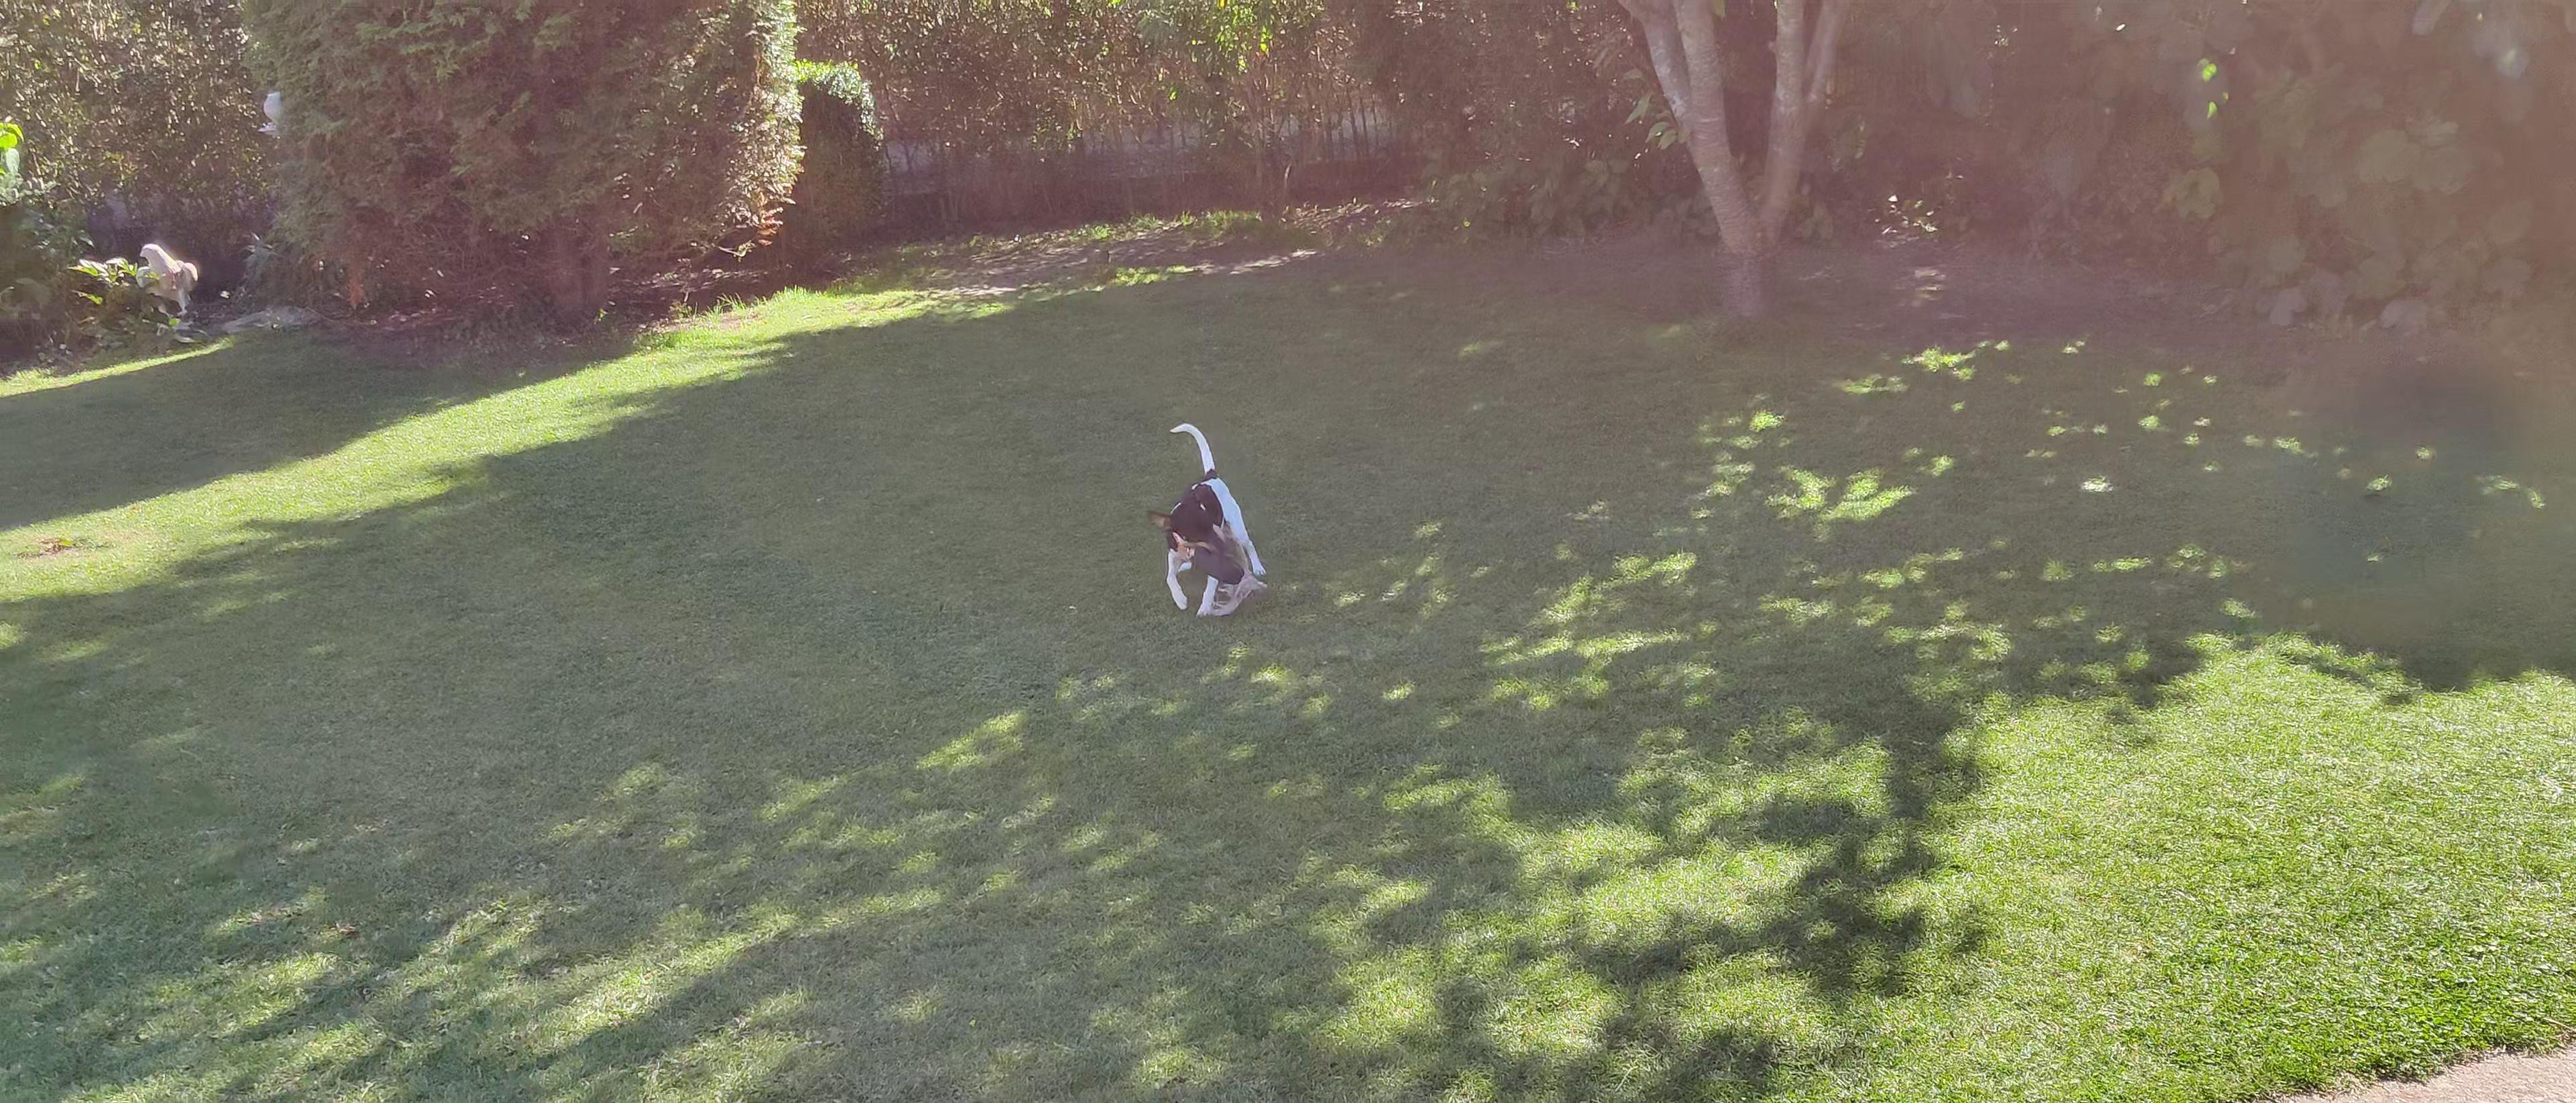Dog: (1134, 409, 1283, 626)
